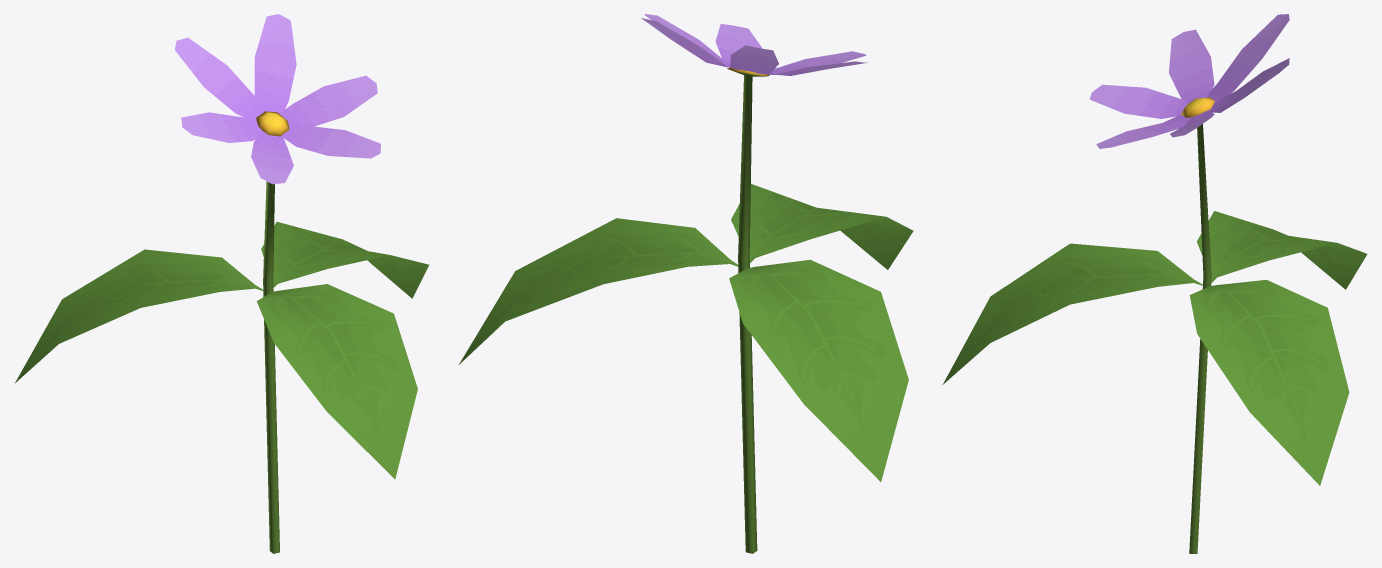
Rendered from AnemonePurple.fbx.
3 renders of one model, left to right at view 1: azimuth 30°, elevation 25°; view 2: azimuth 150°, elevation 25°; view 3: azimuth 270°, elevation 25°, orthographic. The views are drawn at different scales.
Visible parts, largest first — view 1: AnemonePurple; view 2: AnemonePurple; view 3: AnemonePurple.
Part boxes in pixels (x1,y1,x2,y2): AnemonePurple: [15, 14, 428, 553]; AnemonePurple: [459, 14, 913, 553]; AnemonePurple: [942, 14, 1367, 553].
Size of the model in its own units: 394 by 481 by 361.
